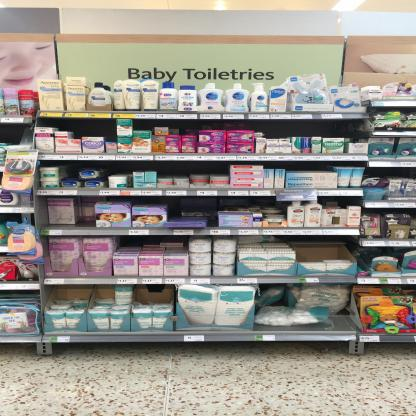Void: (264, 120, 357, 136), (297, 238, 352, 257), (164, 163, 227, 175), (174, 199, 216, 215), (72, 120, 112, 136), (286, 162, 332, 172), (4, 127, 22, 144), (378, 169, 410, 177), (340, 197, 360, 205)
